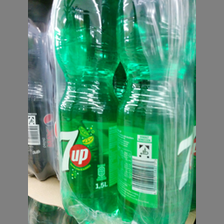soda: (115, 1, 195, 224), (52, 1, 119, 217)
